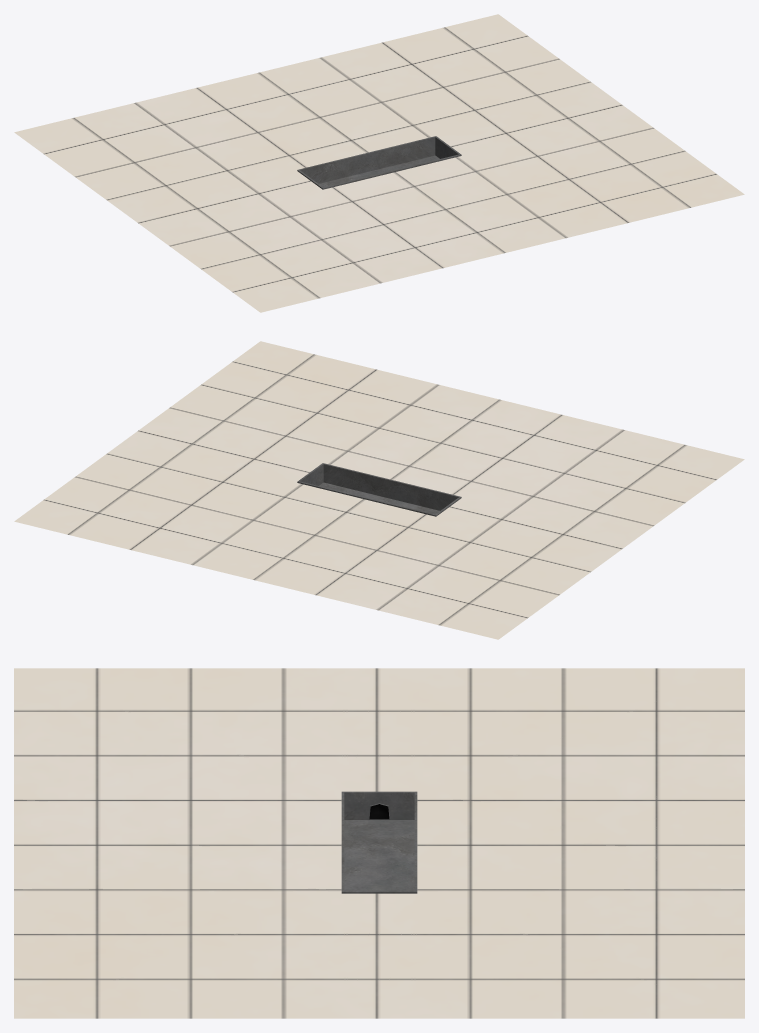
File: mesh011_Floor_Body.fbx
3 views of the same model, one above another, from view 1: azimuth 30°, elevation 25°; view 2: azimuth 150°, elevation 25°; view 3: azimuth 270°, elevation 25° (orthographic). The views are drawn at different scales.
Parts seen in each view (by area): view 1: polySurface29; view 2: polySurface29; view 3: polySurface29.
Part boxes in pixels (x1,y1,x2,y2): polySurface29: (14, 14, 744, 312); polySurface29: (14, 341, 744, 639); polySurface29: (14, 668, 744, 1018).
Bounding box in the file's own units: 13.83 × 0.5759 × 12.19.
